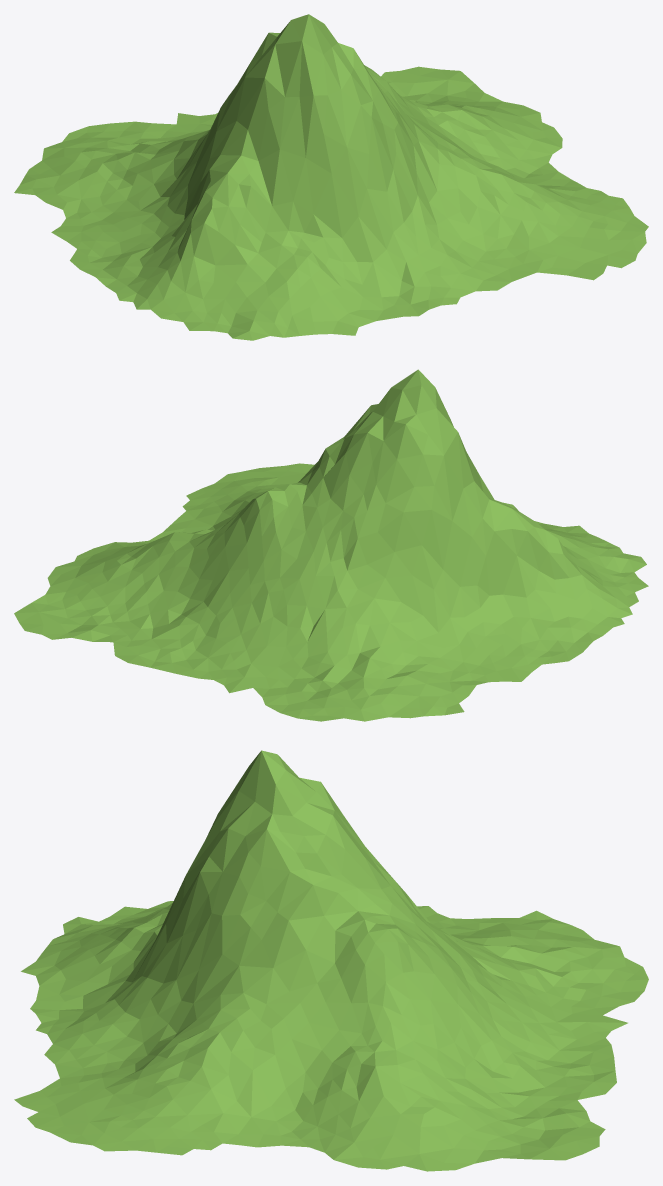
Rendered from MT_Mountain_L_a_27.fbx.
The picture shows the model from 3 angles, top to bottom: view 1: azimuth 30°, elevation 25°; view 2: azimuth 150°, elevation 25°; view 3: azimuth 270°, elevation 25°; orthographic projection. The views are drawn at different scales.
Visible parts, largest first — view 1: MT_Mountain_L_a_27; view 2: MT_Mountain_L_a_27; view 3: MT_Mountain_L_a_27.
Part boxes in pixels (x1=…): MT_Mountain_L_a_27: x1=14, y1=14, x2=648, y2=340; MT_Mountain_L_a_27: x1=14, y1=369, x2=648, y2=721; MT_Mountain_L_a_27: x1=14, y1=750, x2=648, y2=1171.
Bounding box in the file's own units: 8906 × 3847 × 8613.
